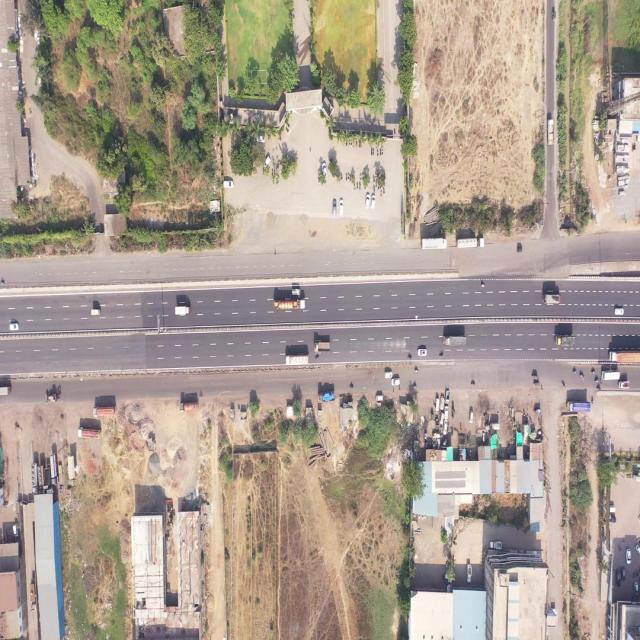3W: (490, 422, 500, 431), (534, 408, 542, 414), (532, 374, 538, 381), (517, 247, 523, 253), (534, 382, 540, 387)
Bus: (601, 370, 620, 380)
Cars: (417, 348, 428, 357), (633, 580, 639, 596), (614, 307, 624, 316), (626, 548, 631, 565), (12, 524, 18, 538), (391, 378, 400, 387), (223, 180, 233, 188), (9, 323, 19, 331), (365, 194, 370, 209), (440, 396, 445, 411), (322, 162, 327, 176), (371, 194, 376, 208), (339, 199, 343, 215), (443, 420, 447, 436), (621, 566, 625, 582), (616, 571, 620, 587), (384, 371, 393, 378), (435, 397, 439, 412), (610, 504, 616, 514), (376, 394, 383, 402), (469, 410, 473, 423), (333, 200, 336, 217), (610, 515, 616, 523)
LCV: (547, 119, 555, 146), (315, 341, 330, 354), (175, 306, 191, 317), (490, 540, 502, 549), (618, 382, 630, 390), (467, 564, 472, 583), (292, 288, 301, 298), (445, 389, 450, 404), (90, 308, 100, 315)
M2W: (632, 143, 636, 152), (359, 172, 362, 182), (0, 280, 6, 285), (470, 381, 476, 386), (379, 147, 382, 156), (379, 188, 382, 197), (340, 172, 343, 181), (315, 355, 320, 360), (481, 283, 486, 288), (408, 354, 412, 360), (440, 353, 444, 359), (356, 180, 358, 190), (346, 171, 348, 181), (579, 373, 584, 377), (562, 383, 566, 388), (414, 369, 419, 373), (382, 148, 384, 157), (370, 147, 372, 156), (373, 174, 375, 183), (347, 172, 349, 181), (376, 149, 378, 157), (373, 184, 375, 192), (383, 186, 385, 194), (356, 140, 358, 148), (591, 370, 595, 374), (573, 370, 577, 374), (591, 399, 594, 404), (372, 148, 374, 155), (354, 184, 356, 191), (594, 379, 598, 382), (350, 384, 353, 388), (597, 388, 601, 390)
MAV: (608, 350, 640, 364), (273, 299, 306, 311), (456, 238, 484, 250), (422, 238, 448, 250), (93, 406, 116, 418), (78, 428, 100, 440), (286, 354, 309, 365), (50, 453, 57, 486), (31, 463, 38, 495), (180, 401, 198, 412), (30, 584, 36, 612), (0, 386, 10, 397)
Truck: (566, 400, 591, 412), (444, 336, 466, 347), (318, 391, 335, 404), (555, 336, 575, 347), (544, 293, 562, 304)
